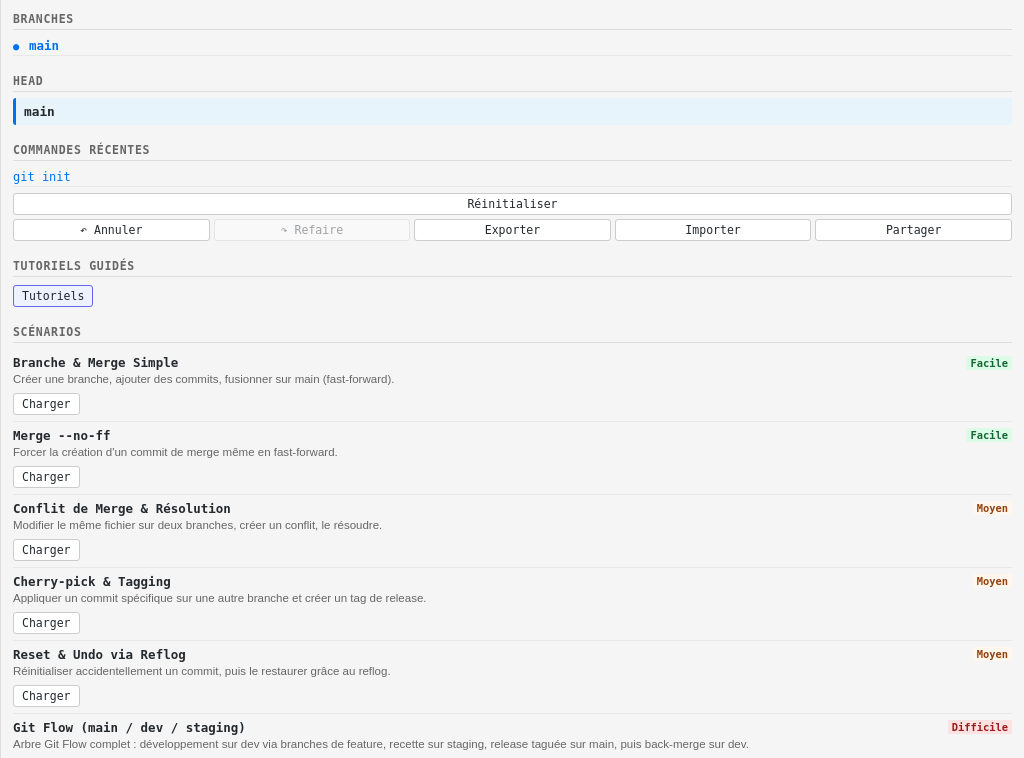
Test case: RefsSidebar — undo/redo (spec 60) › CA-undo-14 : après une commande, Undo actif ; après clic, Redo actif
The width and height of the screenshot is (1024, 758).
Expected: the button with class "btn-redo" is disabled, top-left (214, 219), bottom-right (410, 241)
Click the button with class "btn-undo" at (111, 230), box top-left (13, 219), bottom-right (210, 241)
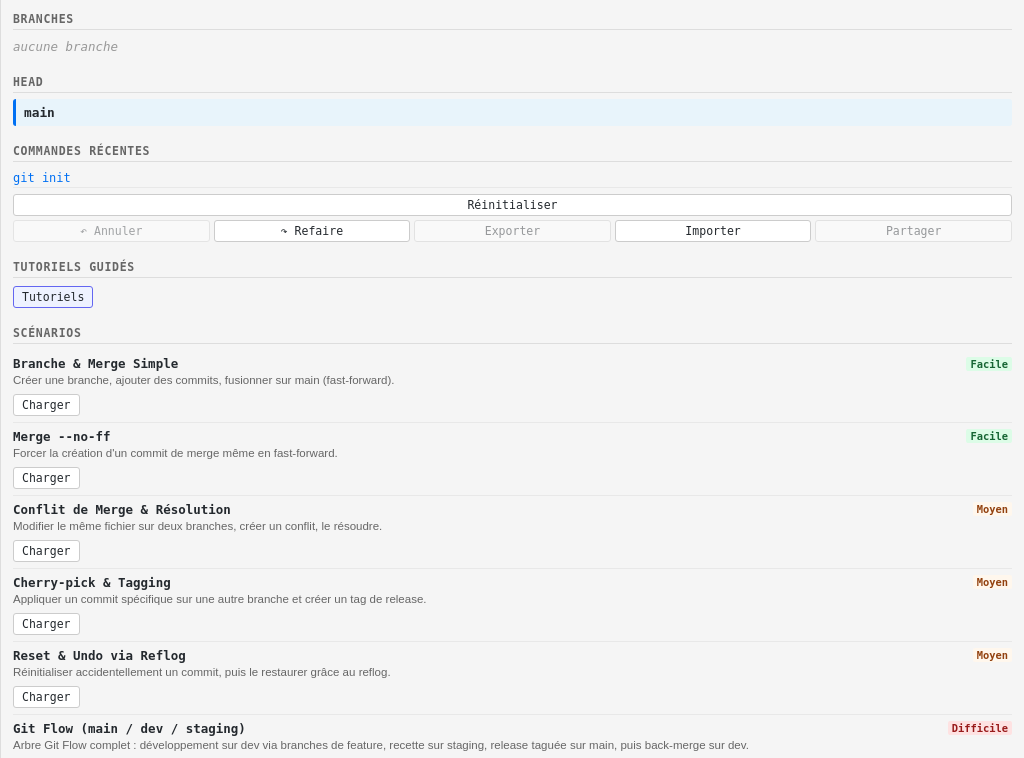
Expected: the button with class "btn-redo" is enabled, top-left (214, 220), bottom-right (410, 242)
